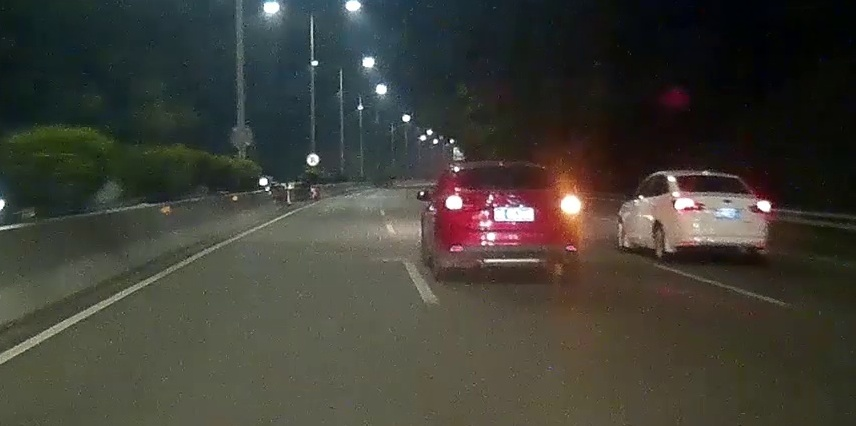L_light: (672, 198, 703, 211), (442, 195, 467, 211)
R_light: (558, 195, 579, 211), (749, 203, 769, 213)
T_light: (495, 166, 514, 171), (707, 176, 721, 179)
night-no: (667, 169, 771, 265)
night-right: (433, 159, 581, 282)
